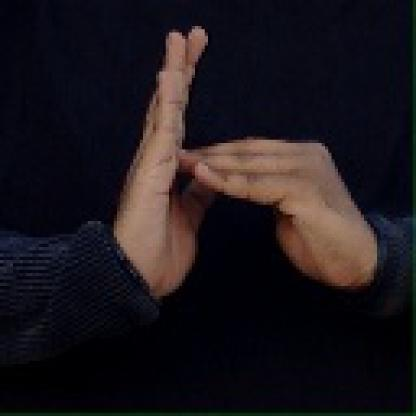Z: (118, 24, 352, 304)
